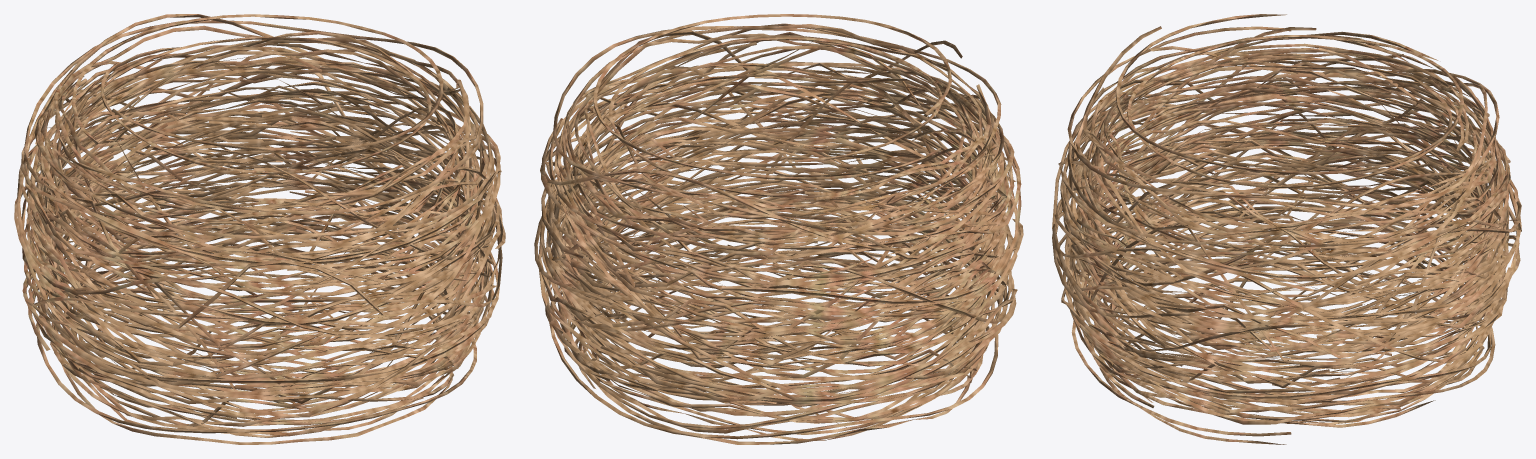
The model's file is Nest_Optimized.FBX.
The picture shows the model from 3 angles, left to right: view 1: azimuth 30°, elevation 25°; view 2: azimuth 150°, elevation 25°; view 3: azimuth 270°, elevation 25°; orthographic projection. The views are drawn at different scales.
Visible parts, largest first — view 1: 3dstylish05; view 2: 3dstylish05; view 3: 3dstylish05.
Part boxes in pixels (bbox=[...]): 3dstylish05: bbox=[14, 14, 505, 444]; 3dstylish05: bbox=[534, 14, 1023, 444]; 3dstylish05: bbox=[1052, 14, 1521, 444].
Size of the model in its own units: 33.35 by 22.98 by 33.78.
Materials: 1 (1 with a texture image).
